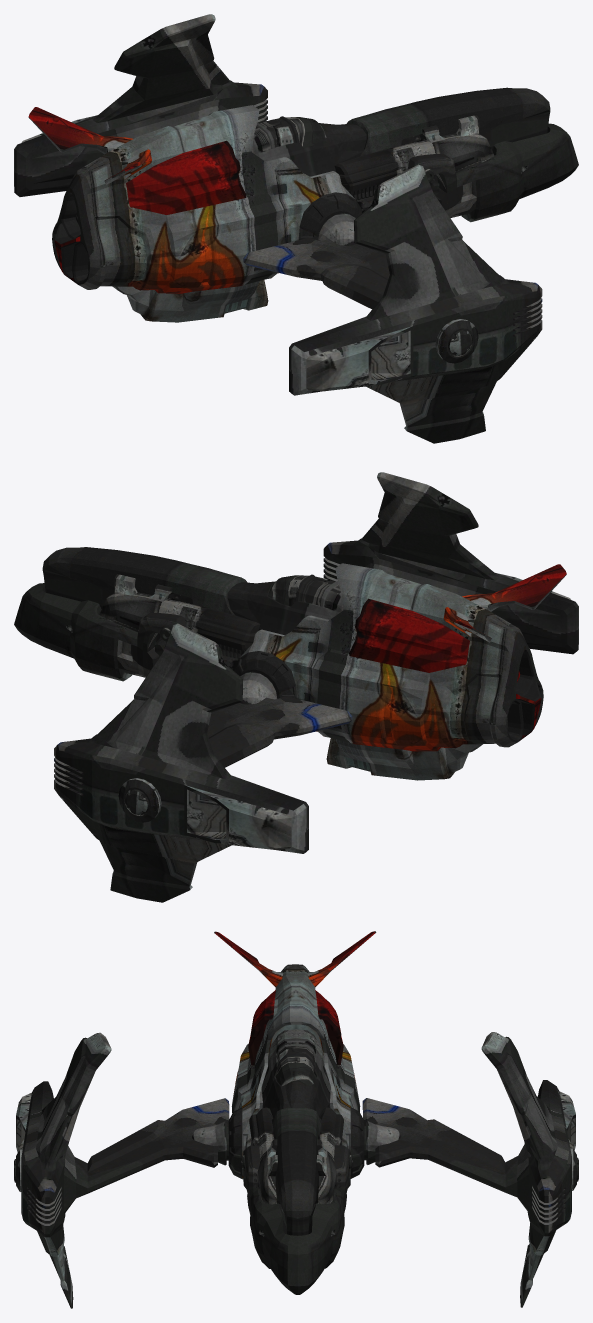
The model's file is argon_m5-pirate.obj.
The picture shows the model from 3 angles, top to bottom: view 1: azimuth 30°, elevation 25°; view 2: azimuth 150°, elevation 25°; view 3: azimuth 270°, elevation 25°; orthographic projection. The views are drawn at different scales.
Visible parts, largest first — view 1: argon_M5; view 2: argon_M5; view 3: argon_M5.
Boxes of the visible parts, bbox=[...] form: argon_M5: bbox=[14, 14, 578, 443]; argon_M5: bbox=[14, 472, 578, 902]; argon_M5: bbox=[14, 931, 578, 1308].
Size of the model in its own units: 77.93 by 39.31 by 80.03.
1 material, 1 textured.
